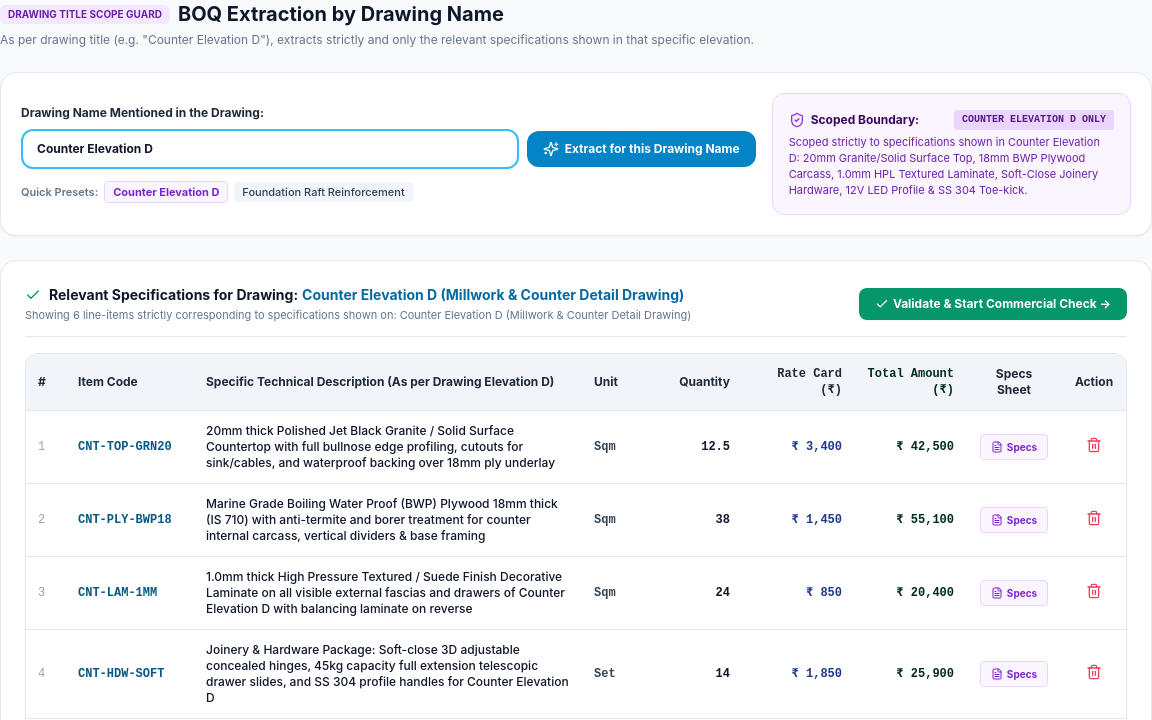
Scenario: BOQStudio Component › switches scopes using quick presets
Click the button "Foundation Raft Reinforcement" at {"x": 324, "y": 192}, box x1=234 y1=182 x2=413 y2=202
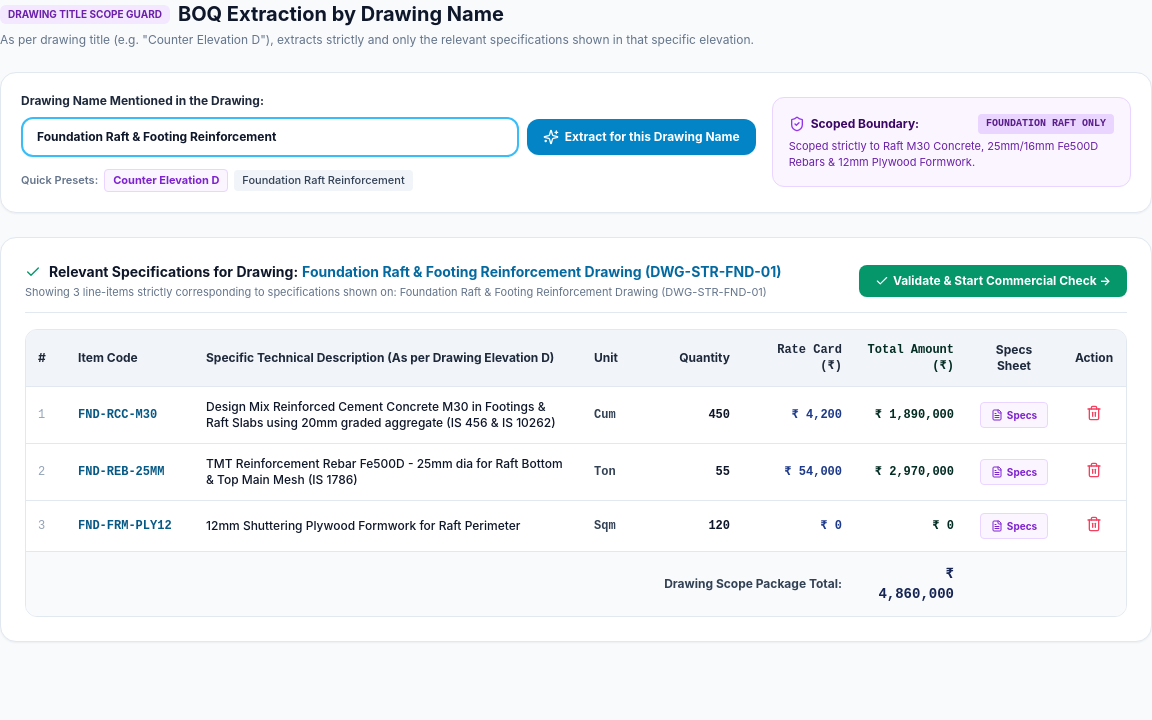
Check: the text "FOUNDATION RAFT ONLY" is shown, box x1=978 y1=114 x2=1114 y2=134
Click the button "Counter Elevation D" at {"x": 166, "y": 180}, box x1=104 y1=169 x2=228 y2=192
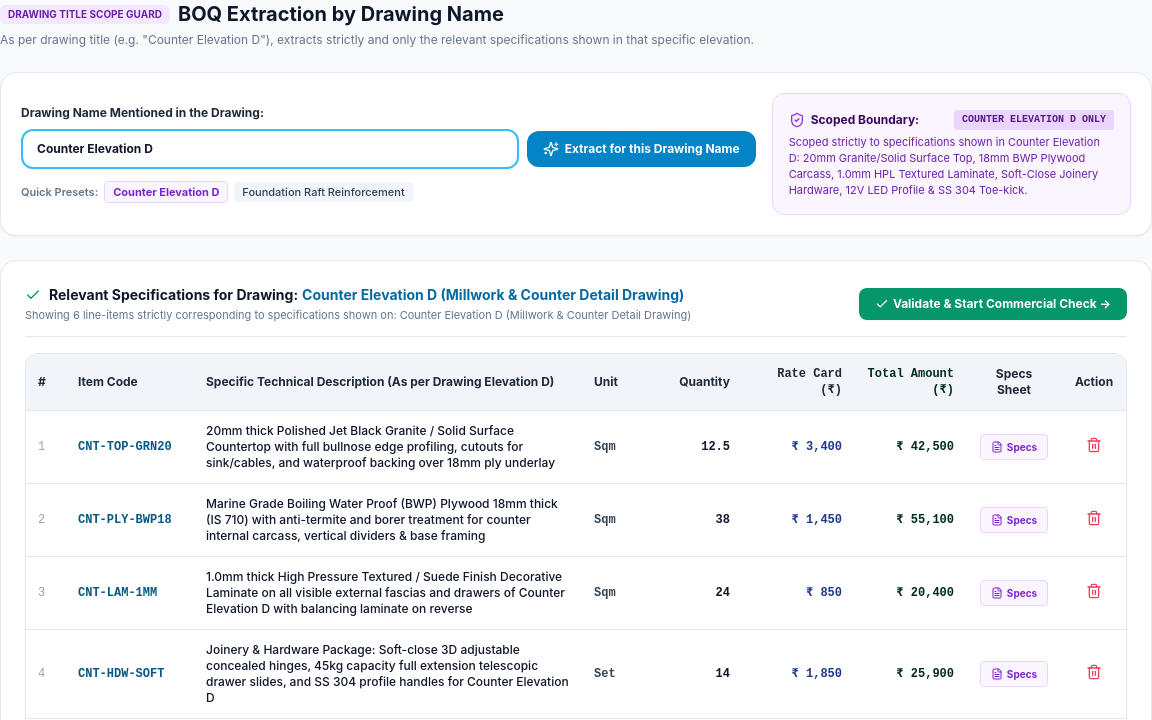
Check: the text "COUNTER ELEVATION D ONLY" is shown, box x1=954 y1=110 x2=1114 y2=130
